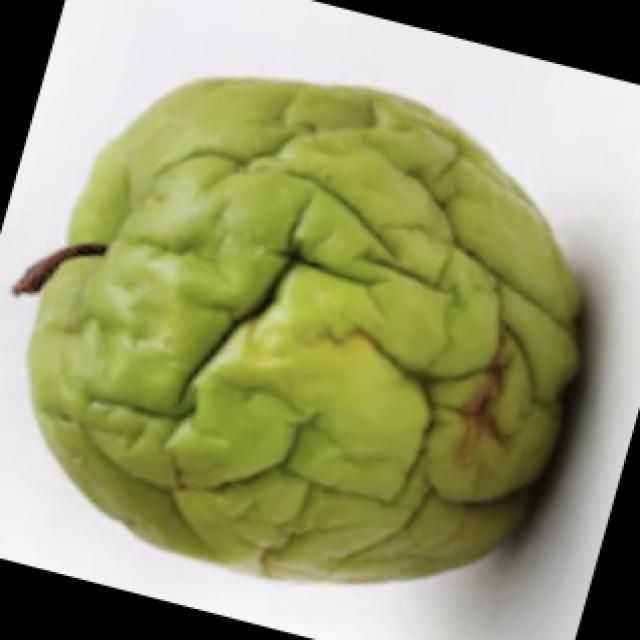Rotten: (57, 77, 573, 590)
